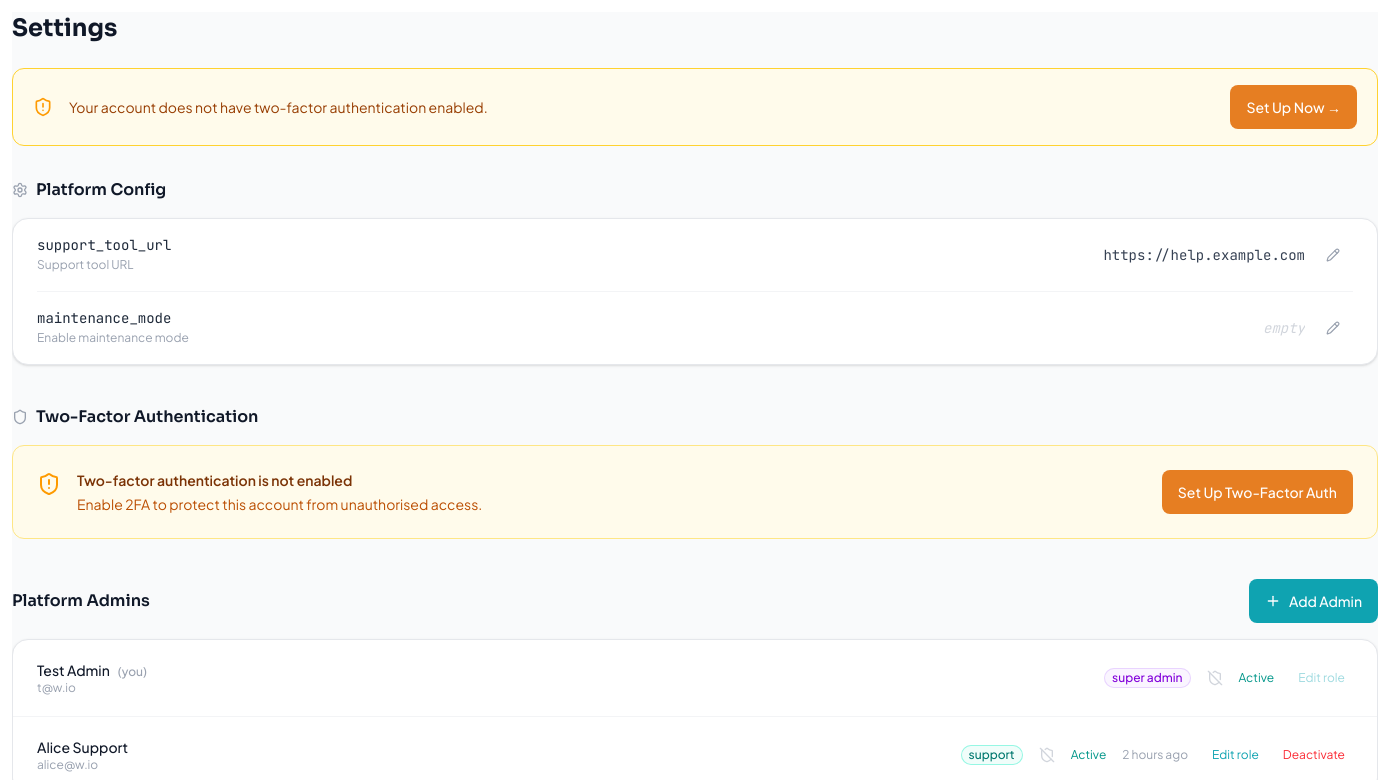
Test: Settings page › shows inline edit input when pencil is clicked
expect the text "support_tool_url" is shown: met, box [37,235,171,255]
Click the button named "Edit support_tool_url" at x=1333, y=255, box [1313,235,1353,275]
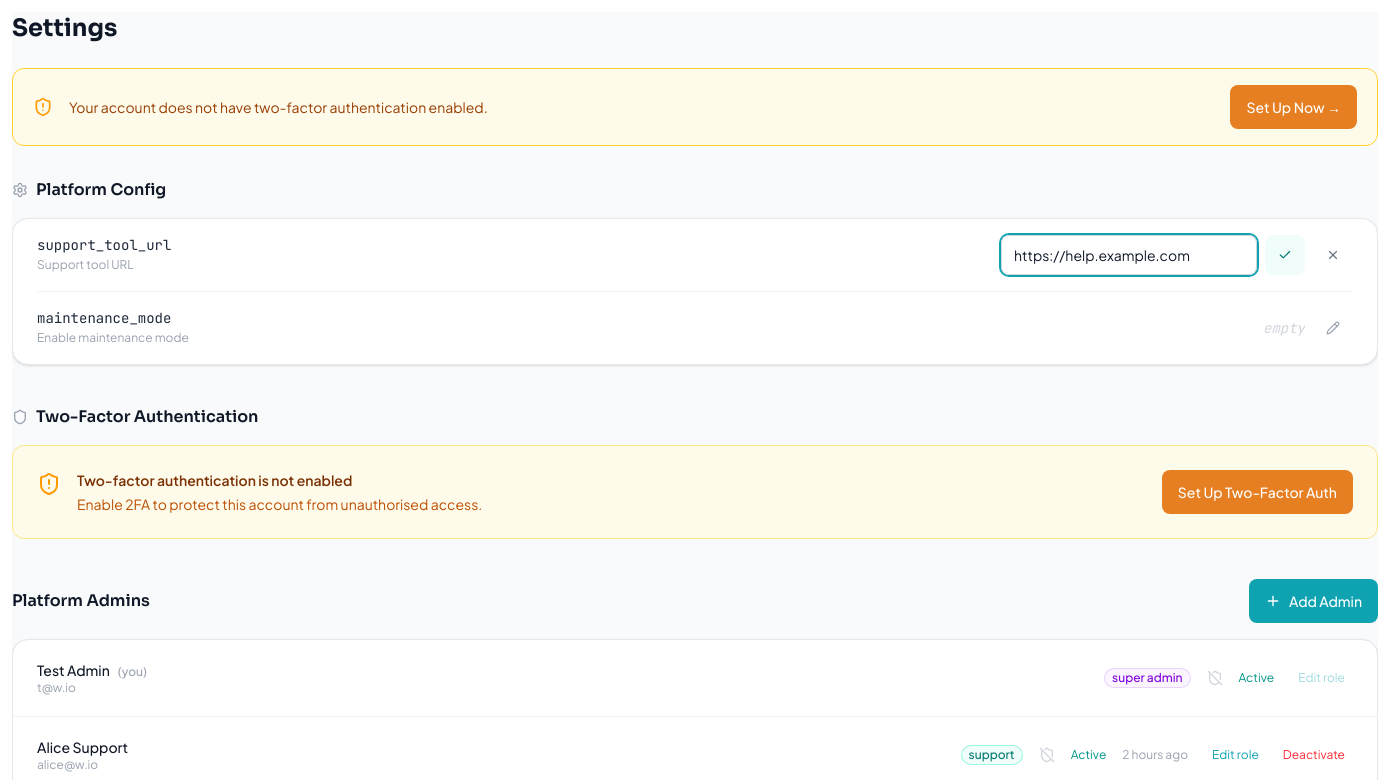
expect the field named "Edit support_tool_url" is shown: met, box [1001,235,1257,275]
